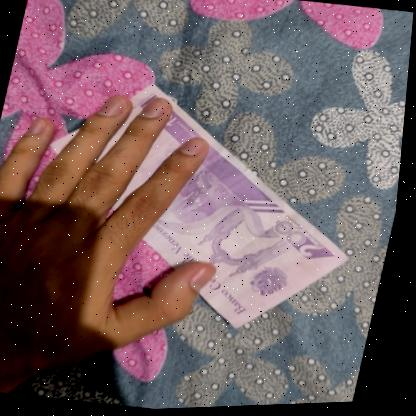one_hundred-back-vef: (14, 64, 390, 350)
